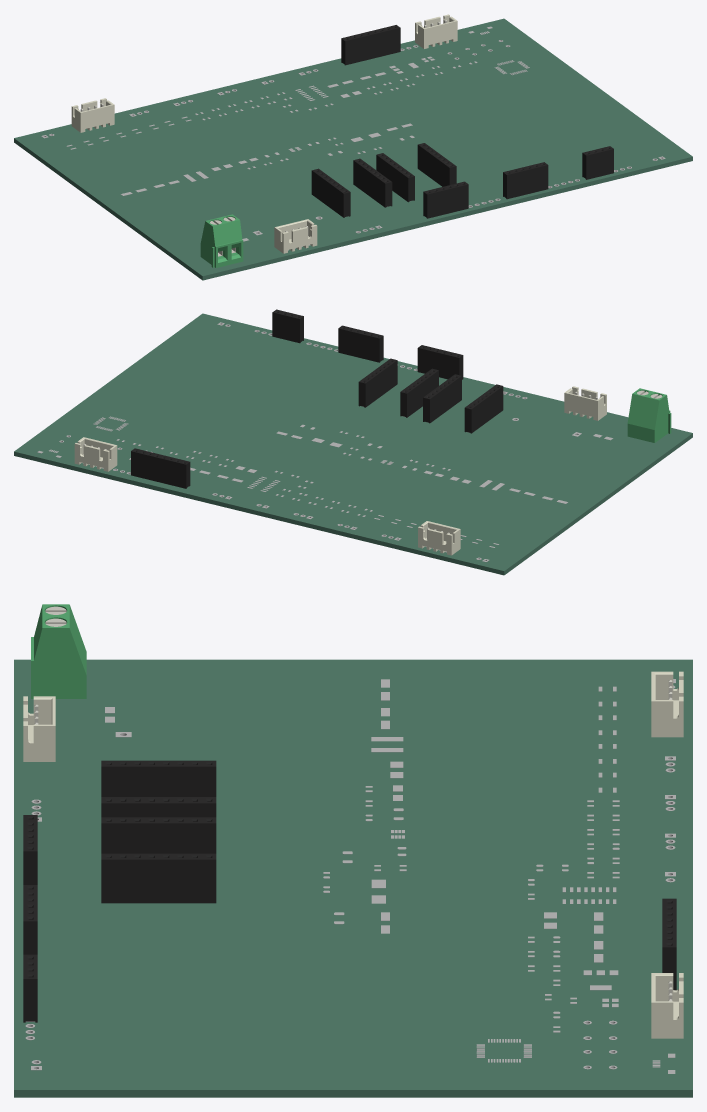
Rendered from sockets_pads_after.glb.
The picture shows the model from 3 angles, top to bottom: view 1: azimuth 30°, elevation 25°; view 2: azimuth 150°, elevation 25°; view 3: azimuth 270°, elevation 25°; orthographic projection. The views are drawn at different scales.
Visible parts, largest first — view 1: =>[0:1:1:13], =>[0:1:1:5] (×5), =>[0:1:1:7] (×3), =>[0:1:1:12], =>[0:1:1:9] (×2), =>[0:1:1:3], =>[0:1:1:11]; view 2: =>[0:1:1:13], =>[0:1:1:5] (×5), =>[0:1:1:7] (×3), =>[0:1:1:9] (×2), =>[0:1:1:12], =>[0:1:1:3], =>[0:1:1:11]; view 3: =>[0:1:1:13], =>[0:1:1:5] (×5), =>[0:1:1:12], =>[0:1:1:7] (×3), =>[0:1:1:3], =>[0:1:1:9] (×2), =>[0:1:1:11].
Boxes of the visible parts, <box> form: =>[0:1:1:13]: <box>14,18,692,280</box>; =>[0:1:1:5] (×5): <box>311,25,456,217</box>; =>[0:1:1:7] (×3): <box>71,14,457,253</box>; =>[0:1:1:12]: <box>41,26,665,250</box>; =>[0:1:1:9] (×2): <box>423,162,548,218</box>; =>[0:1:1:3]: <box>200,214,243,267</box>; =>[0:1:1:11]: <box>582,146,613,179</box>; =>[0:1:1:13]: <box>14,313,692,575</box>; =>[0:1:1:5] (×5): <box>131,358,503,488</box>; =>[0:1:1:7] (×3): <box>74,386,606,555</box>; =>[0:1:1:9] (×2): <box>338,325,463,379</box>; =>[0:1:1:12]: <box>37,322,613,562</box>; =>[0:1:1:3]: <box>627,388,671,442</box>; =>[0:1:1:11]: <box>272,309,303,343</box>; =>[0:1:1:13]: <box>14,659,692,1097</box>; =>[0:1:1:5] (×5): <box>101,760,676,990</box>; =>[0:1:1:12]: <box>25,679,675,1073</box>; =>[0:1:1:7] (×3): <box>23,671,683,1038</box>; =>[0:1:1:3]: <box>31,604,86,698</box>; =>[0:1:1:9] (×2): <box>23,815,37,954</box>; =>[0:1:1:11]: <box>23,954,37,1022</box>.
Size of the model in its own units: 0.18 by 0.0173 by 0.12.
